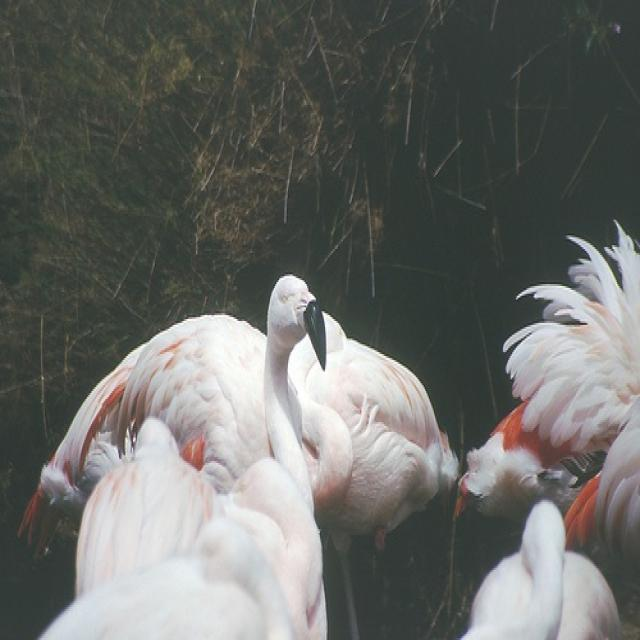bird: (457, 222, 639, 558), (287, 306, 462, 636), (116, 272, 326, 520), (38, 512, 290, 638), (69, 416, 209, 601), (458, 498, 622, 638)
